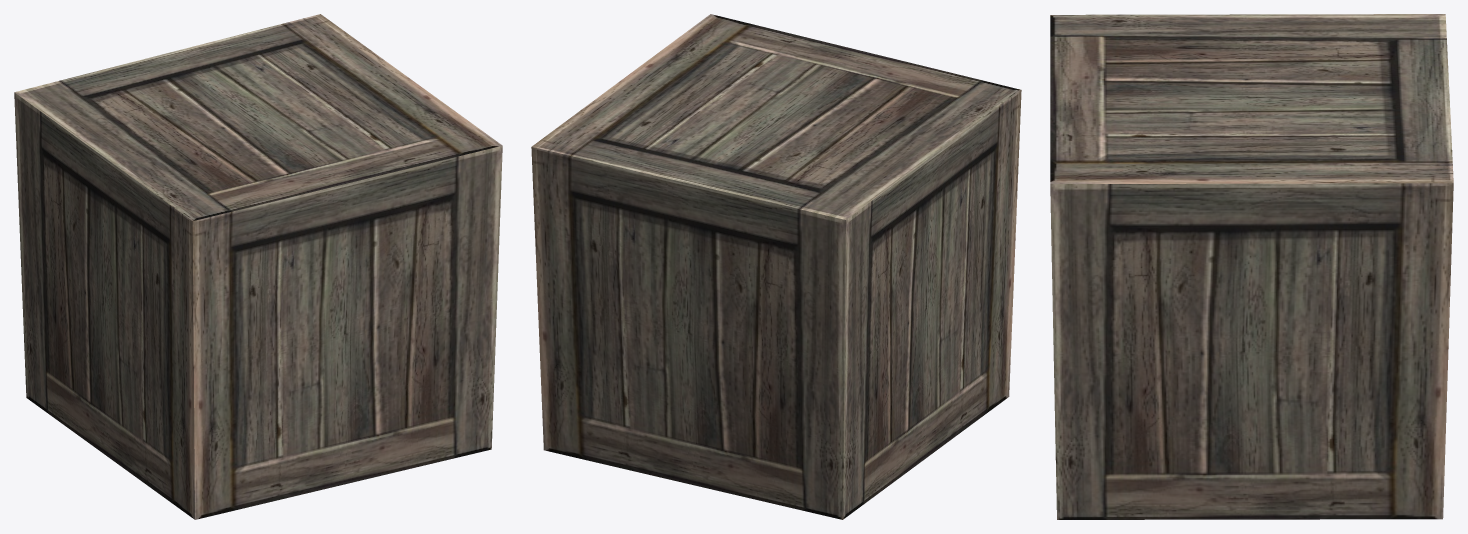
The model's file is crate.fbx.
The picture shows the model from 3 angles, left to right: view 1: azimuth 30°, elevation 25°; view 2: azimuth 150°, elevation 25°; view 3: azimuth 270°, elevation 25°; orthographic projection. The views are drawn at different scales.
Visible parts, largest first — view 1: polySurface1, top; view 2: polySurface1, top; view 3: polySurface1, top.
Boxes of the visible parts, <box> form: polySurface1: <box>14,92,502,519</box>; top: <box>14,14,502,220</box>; polySurface1: <box>531,90,1021,519</box>; top: <box>531,14,1020,219</box>; polySurface1: <box>1050,183,1453,519</box>; top: <box>1050,14,1453,183</box>.
Size of the model in its own units: 294 by 274 by 294.
Materials: 1 (1 with a texture image).
